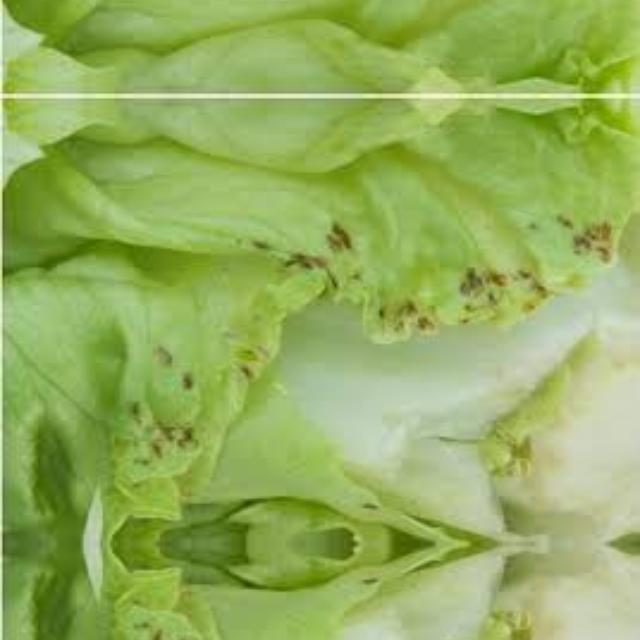Lettuce - Anthracnose: (31, 142, 640, 505), (31, 582, 640, 640), (31, 0, 640, 47)
